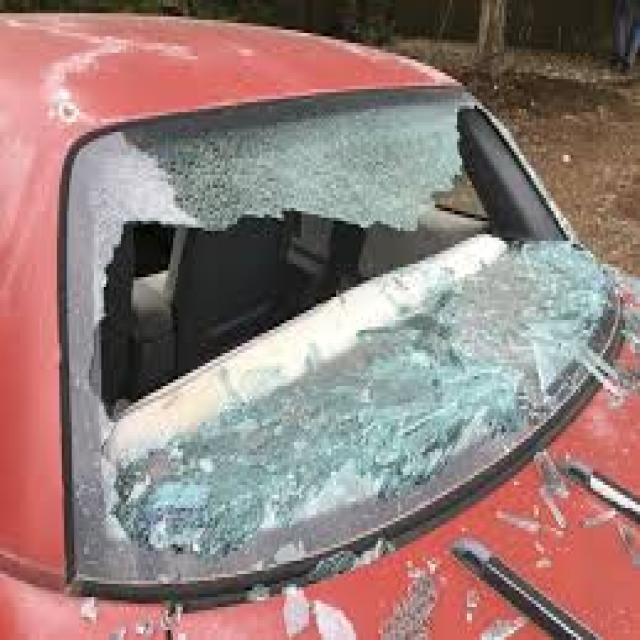damaged-rear-window: (61, 78, 604, 591)
